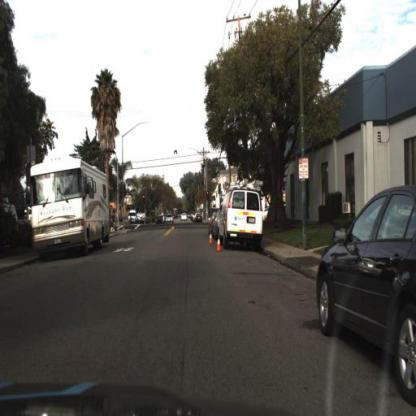car: (316, 186, 416, 410), (216, 185, 264, 252), (179, 207, 190, 225), (163, 212, 177, 226), (164, 212, 175, 228)
trafficLight-Red: (143, 194, 148, 208), (206, 190, 211, 202)
truck: (28, 155, 110, 258)
